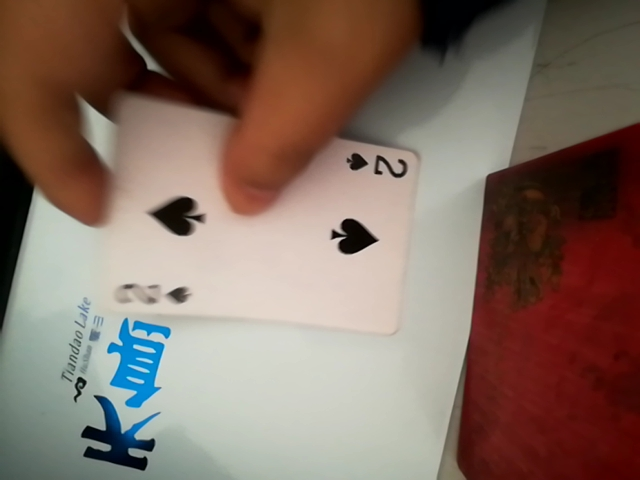ht 2: (90, 119, 433, 339)
